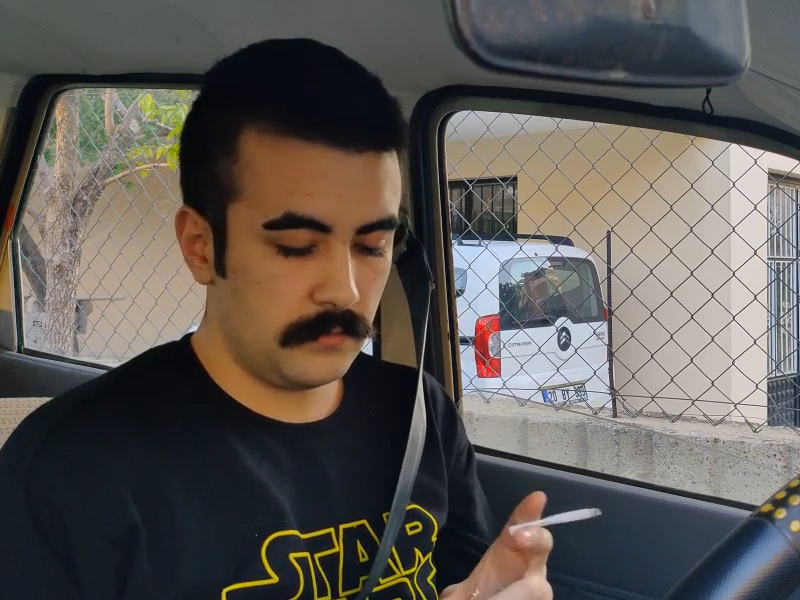sigara: (505, 505, 609, 535)
